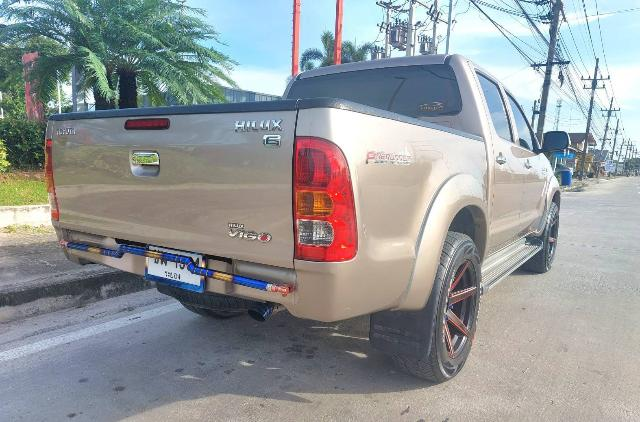pickup-truck: (36, 44, 574, 395)
